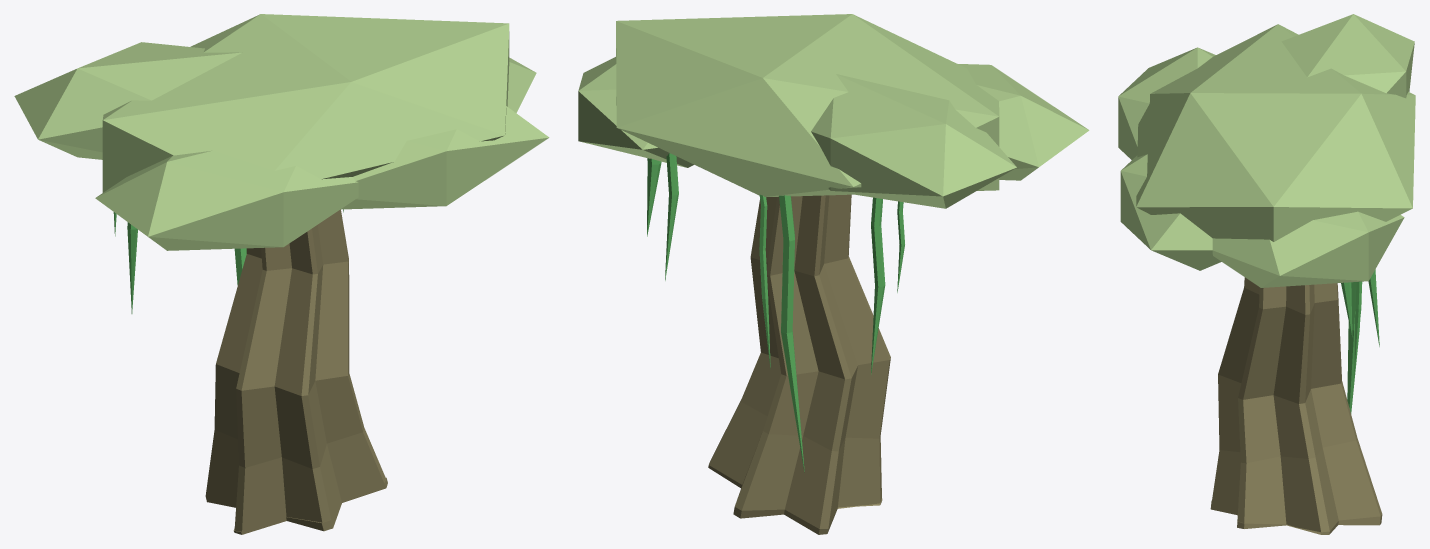
File: Grand_Arbre_V002.fbx
3 renders of one model, left to right at view 1: azimuth 30°, elevation 25°; view 2: azimuth 150°, elevation 25°; view 3: azimuth 270°, elevation 25°, orthographic. The views are drawn at different scales.
Parts seen in each view (by area): view 1: Platonic_2, TRONC, Platonic_1, Platonic_4, Platonic_3, Platonic; view 2: Platonic_2, TRONC, Platonic_4, Platonic_1, Platonic, Liane_3, Liane, Liane_2, Liane_4, Liane_5; view 3: Platonic_2, TRONC, Platonic, Platonic_4, Platonic_3, Platonic_1, Liane_3, Liane_2, Liane_4.
Boxes of the visible parts, x1,y1,x2,y2 form: Platonic_2: (102, 14, 509, 192); TRONC: (205, 209, 387, 534); Platonic_1: (95, 150, 358, 250); Platonic_4: (14, 42, 242, 159); Platonic_3: (340, 106, 549, 209); Platonic: (507, 57, 536, 112); Platonic_2: (616, 14, 999, 197); TRONC: (708, 194, 890, 534); Platonic_4: (811, 74, 1016, 208); Platonic_1: (958, 64, 1089, 180); Platonic: (578, 57, 693, 167); Liane_3: (779, 195, 804, 472); Liane: (871, 197, 885, 374); Liane_2: (759, 194, 770, 368); Liane_4: (665, 153, 678, 280); Liane_5: (647, 158, 661, 236); Platonic_2: (1136, 24, 1415, 241); TRONC: (1210, 277, 1382, 534); Platonic: (1212, 211, 1404, 287); Platonic_4: (1281, 14, 1414, 98); Platonic_3: (1120, 154, 1221, 270); Platonic_1: (1118, 47, 1215, 159); Liane_3: (1347, 282, 1362, 413); Liane_2: (1354, 281, 1361, 376); Liane_4: (1368, 269, 1379, 346).
Bounding box in the file's own units: 645 × 605 × 376.
